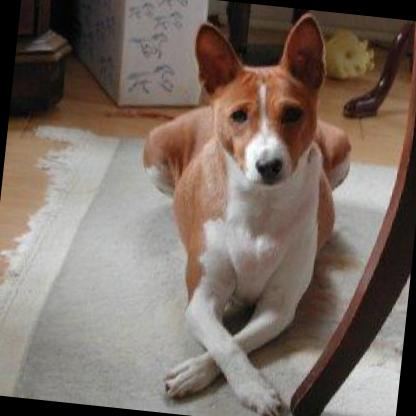basenji: (114, 0, 365, 416)
